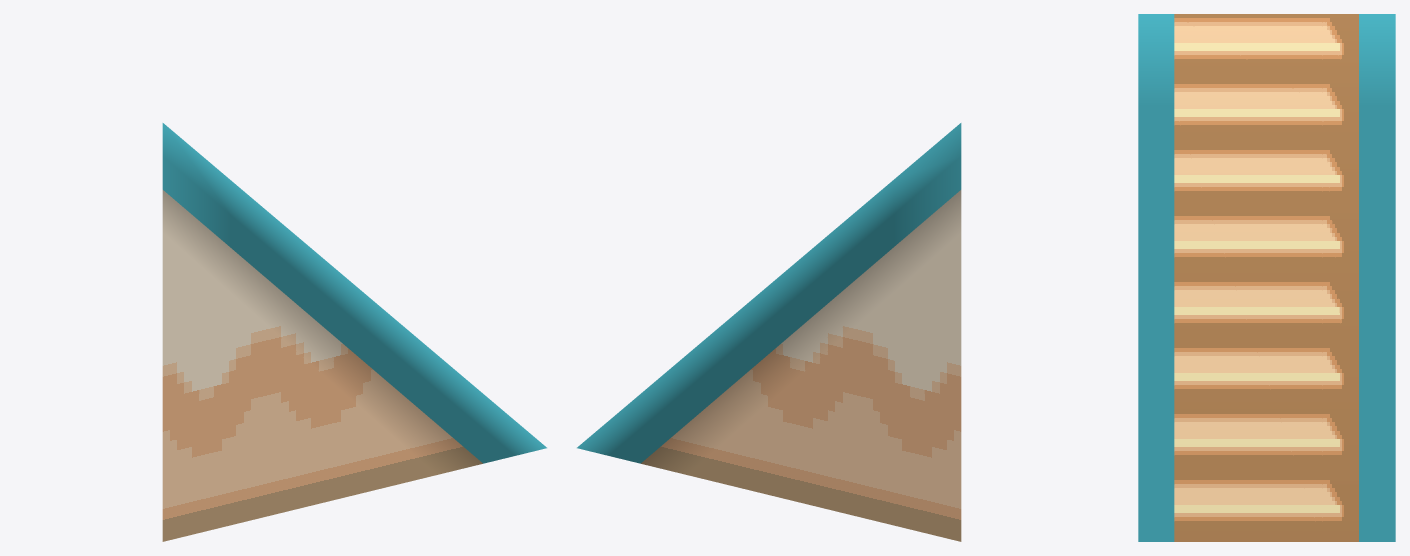
3 views of the same model, side by side, from view 1: azimuth 30°, elevation 25°; view 2: azimuth 150°, elevation 25°; view 3: azimuth 270°, elevation 25° (orthographic). The views are drawn at different scales.
Size of the model in its own units: 3 by 3.12 by 2.
3 materials, 3 textured.
